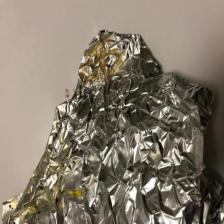metal: (19, 23, 224, 223)
